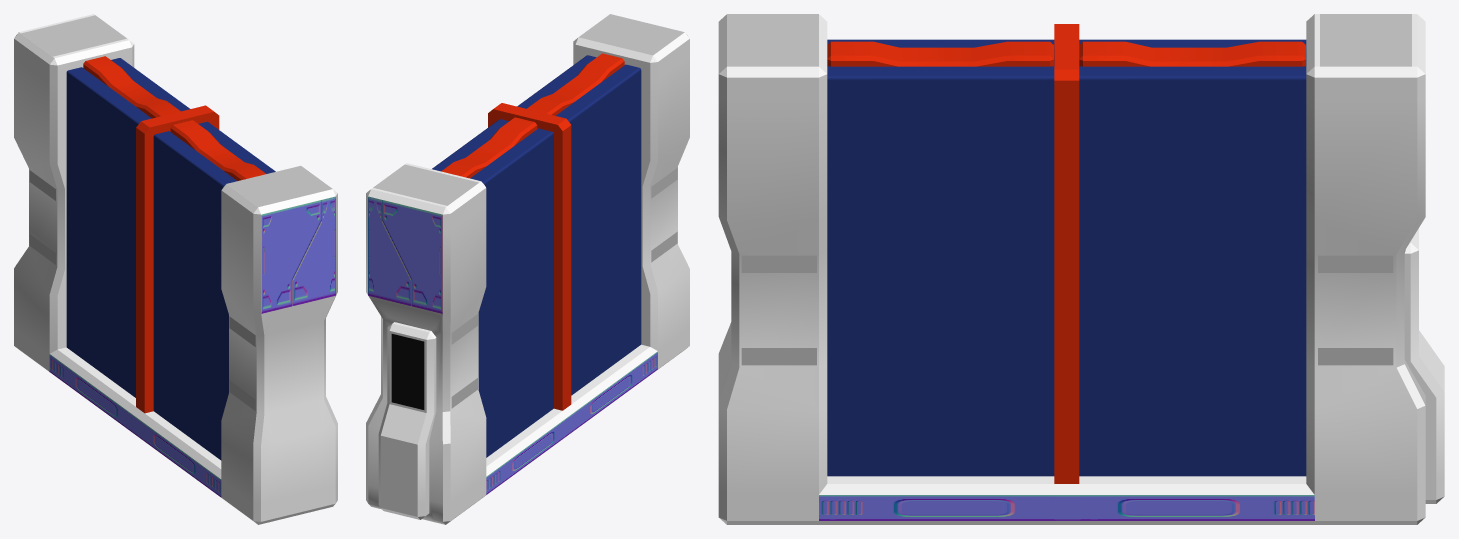
Rendered from S_assete_etager.fbx.
3 renders of one model, left to right at view 1: azimuth 30°, elevation 25°; view 2: azimuth 150°, elevation 25°; view 3: azimuth 270°, elevation 25°, orthographic. The views are drawn at different scales.
Visible parts, largest first — view 1: Box001; view 2: Box001; view 3: Box001.
Part boxes in pixels (<box>): Box001: <box>14,14,337,524</box>; Box001: <box>366,14,689,524</box>; Box001: <box>718,14,1444,524</box>.
Size of the model in its own units: 100 by 359 by 515.
